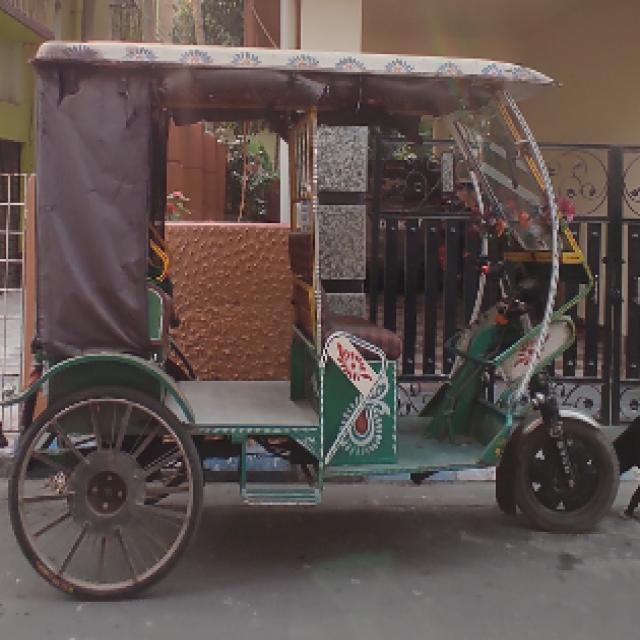rickshaw: (16, 36, 624, 611)
